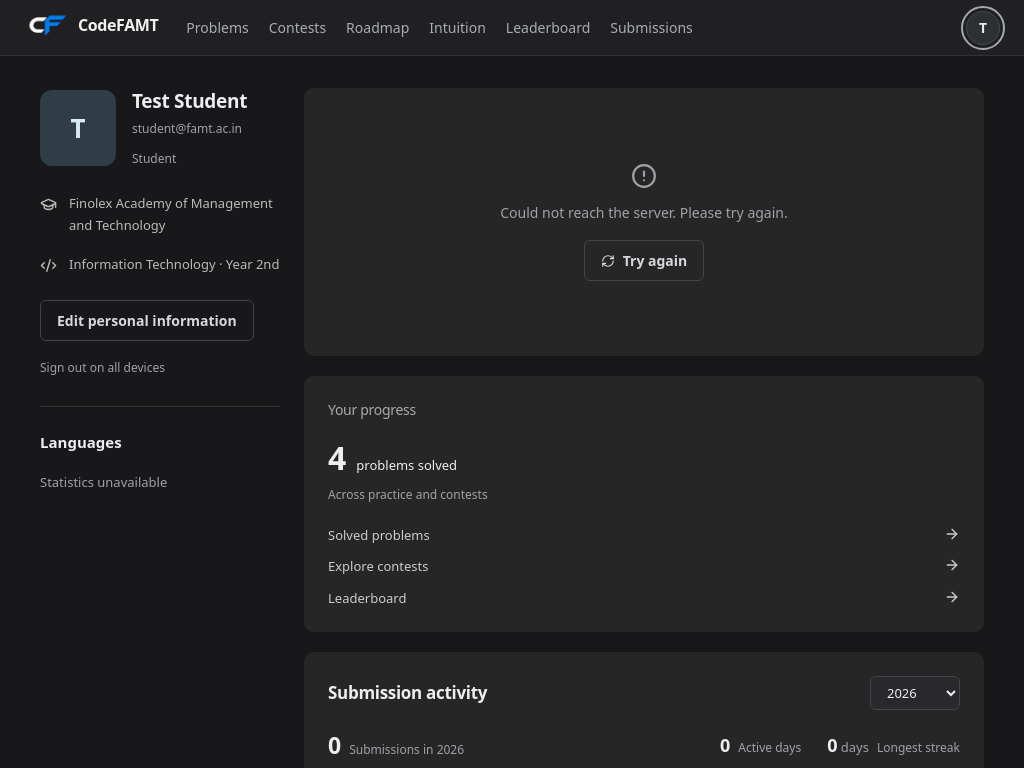
Scenario: Account flows › updates a profile and logs out through the server
Click the button "Edit personal information": x=147, y=321 [40,300,254,341]
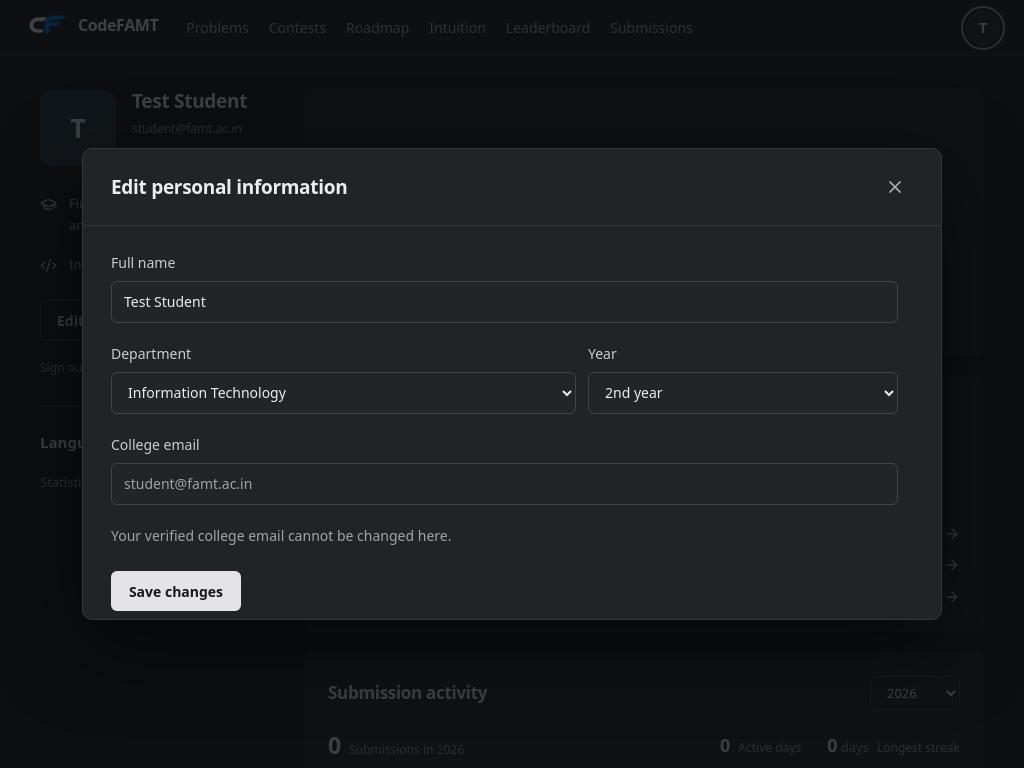
Select "AI & ML" in the dropdown labelled "Department": x=344, y=393 [111,372,576,414]
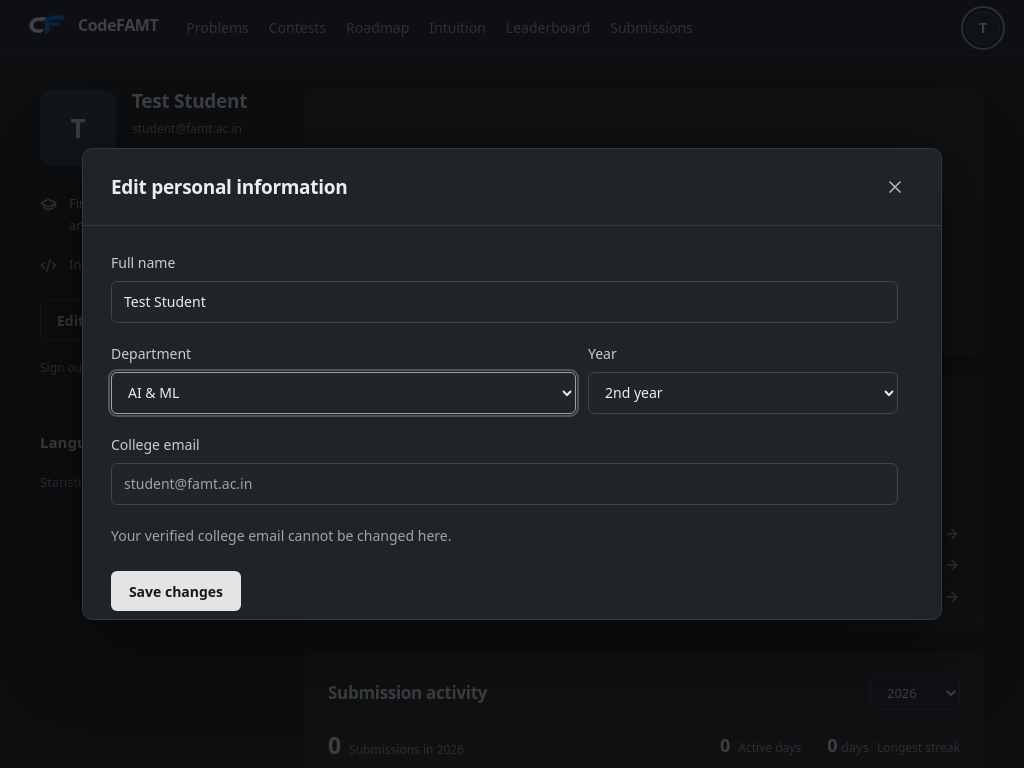
Click the button "Save changes": x=176, y=591 [111,571,241,611]
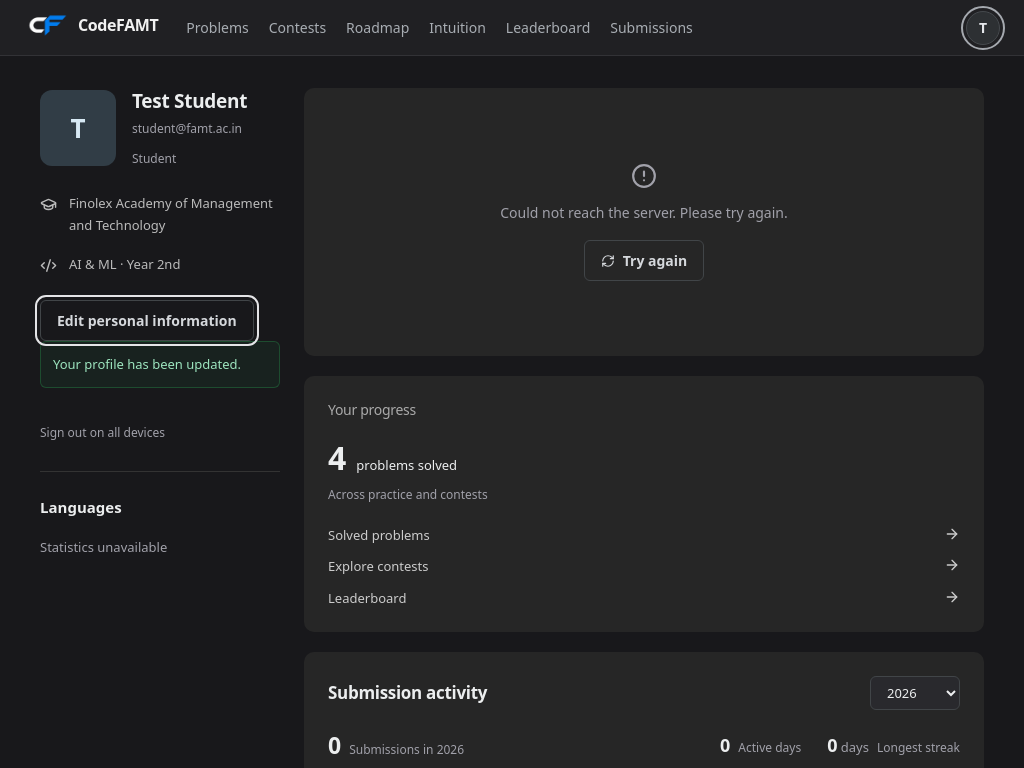
Expected: the message "Your profile has been updated." is shown, [40,341,280,388]
Click the button "Sign out on all devices": x=102, y=433 [40,424,165,442]
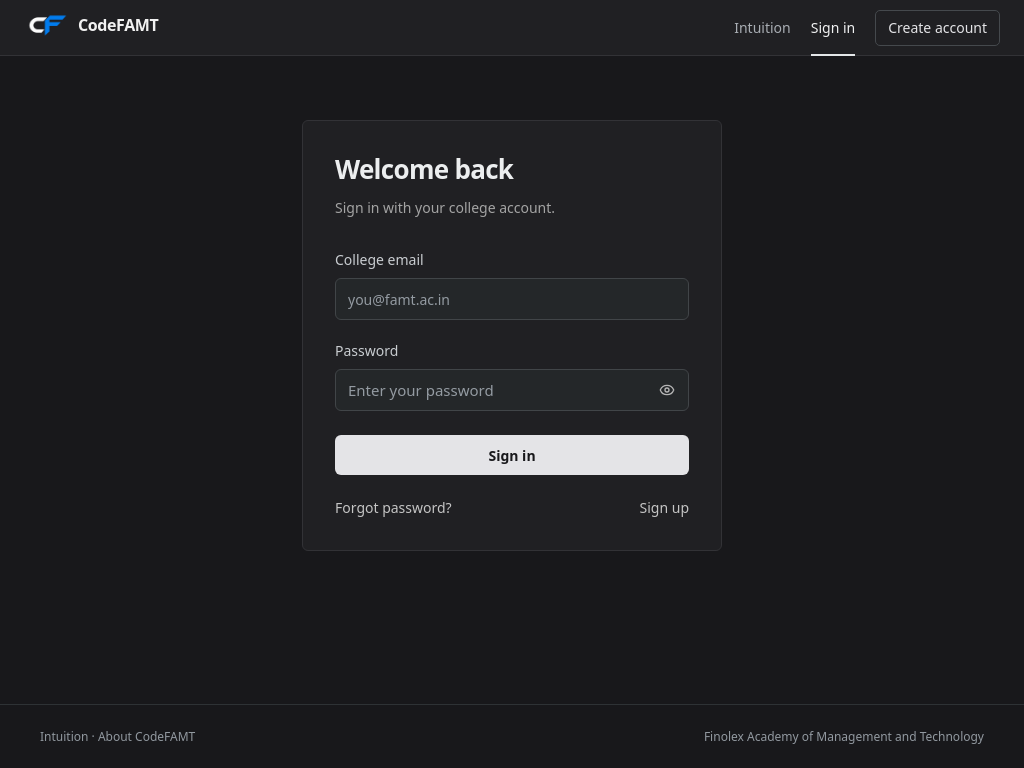
Expected: the heading "Welcome back" is shown, [335,151,513,187]
